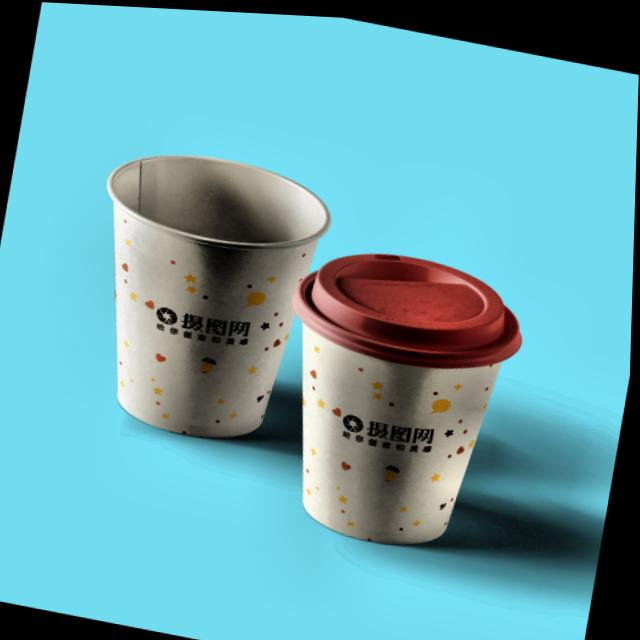Cup: (45, 111, 336, 463), (256, 209, 527, 568)
